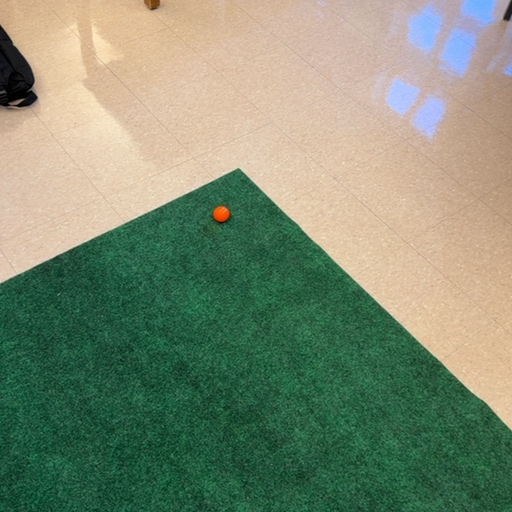Ball: (213, 206, 229, 222)
